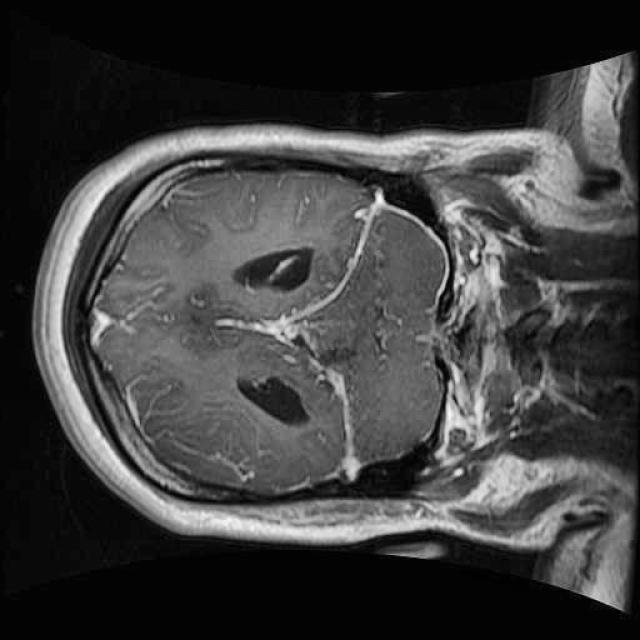Tumor: (198, 279, 314, 372)
